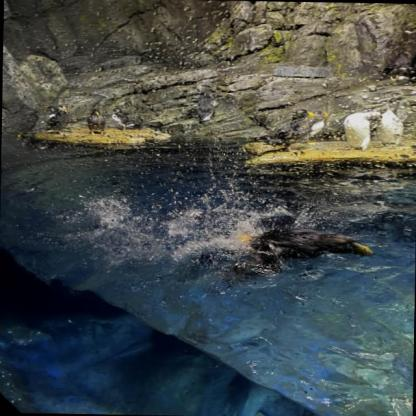puffin: (229, 223, 375, 282), (252, 107, 315, 152), (343, 110, 380, 150), (374, 108, 403, 146), (41, 103, 70, 136), (380, 49, 411, 78), (192, 92, 218, 124), (109, 106, 141, 131), (17, 132, 58, 150), (308, 110, 329, 142), (88, 108, 108, 136), (406, 55, 416, 84)
